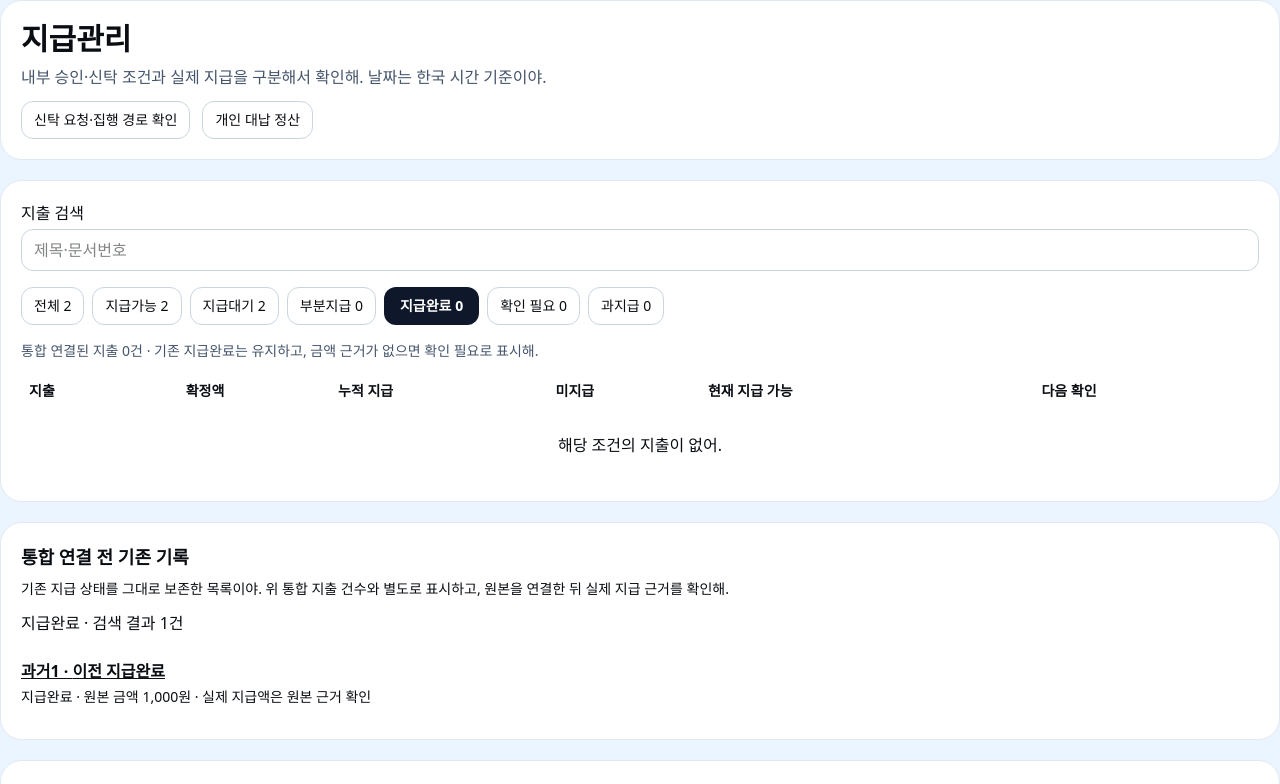
Test: payment UI persistence and source preservation › keeps unconnected completed originals visible without making them payable or duplicating linked ones
Expected: the text "지급완료 · 검색 결과 1건" is shown, [21, 612, 184, 634]
Click the button "지급가능 2": (137, 306) [92, 287, 182, 325]
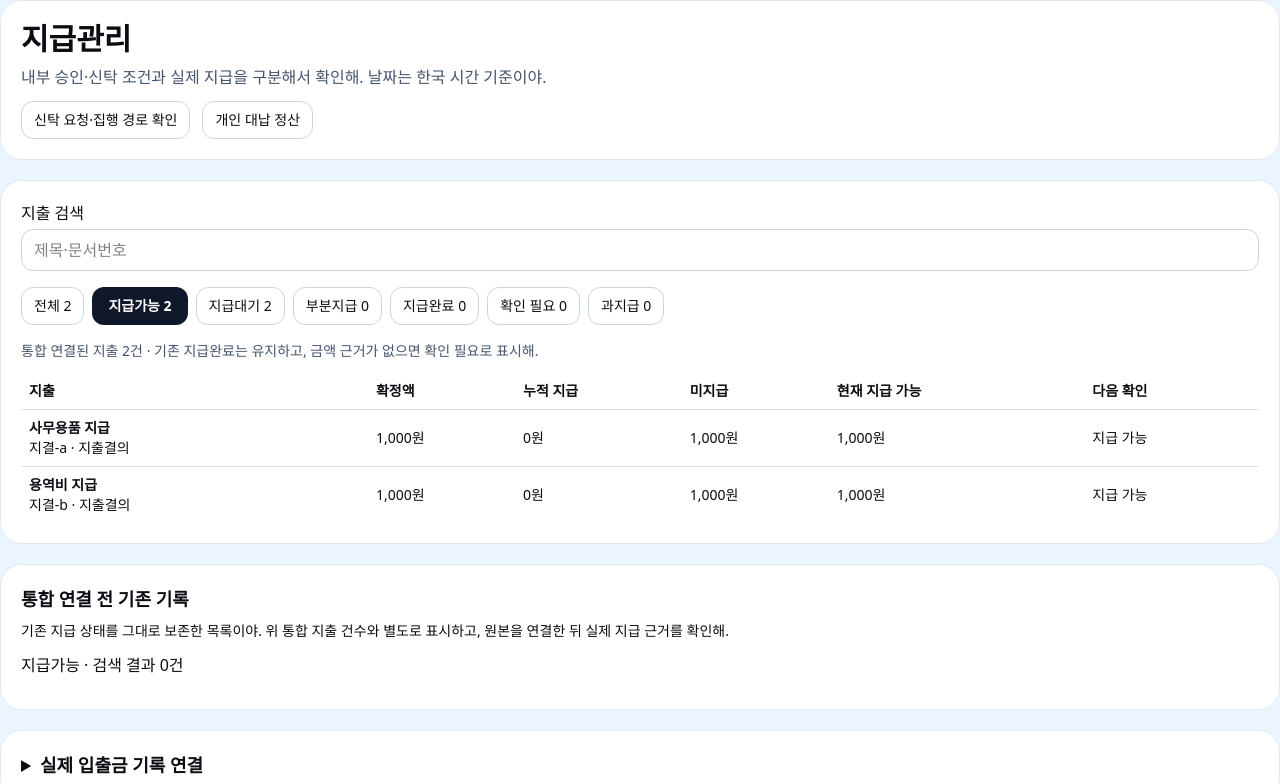
Expected: the text "지급가능 · 검색 결과 0건" is shown, [21, 654, 184, 676]
Expected: the link "과거1 · 이전 지급완료" is gone
